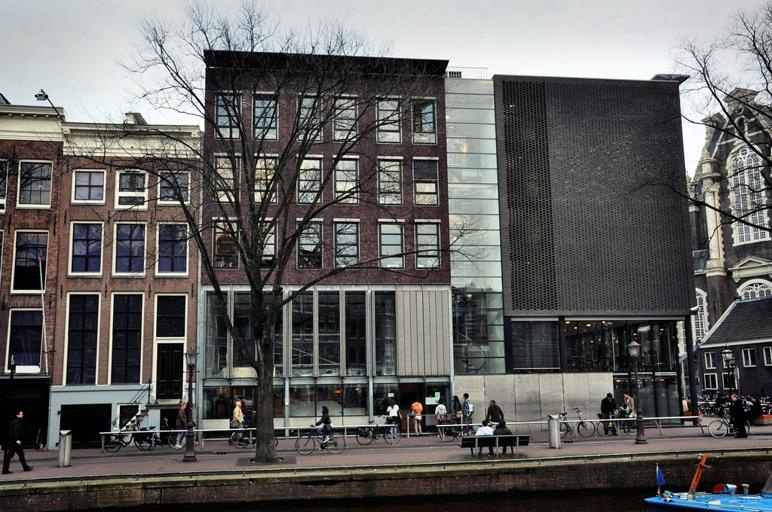non-vehicle: (230, 411, 278, 448), (294, 424, 346, 455), (103, 420, 152, 452), (140, 417, 187, 448), (355, 413, 401, 444), (438, 410, 481, 441), (706, 409, 751, 438), (596, 406, 637, 436), (559, 407, 595, 437)
